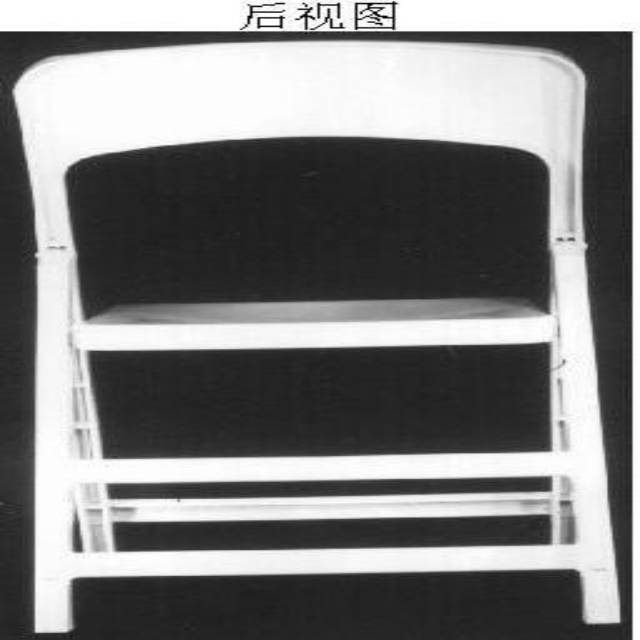obstacle: (12, 40, 617, 631)
